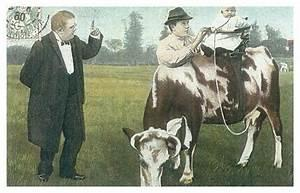cow: (136, 45, 281, 186)
